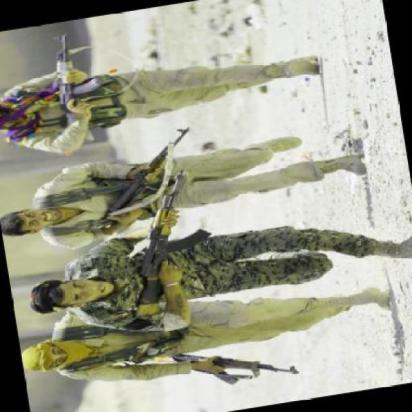Gun: (105, 162, 220, 320), (161, 331, 304, 401), (95, 125, 203, 217), (45, 24, 124, 138)
